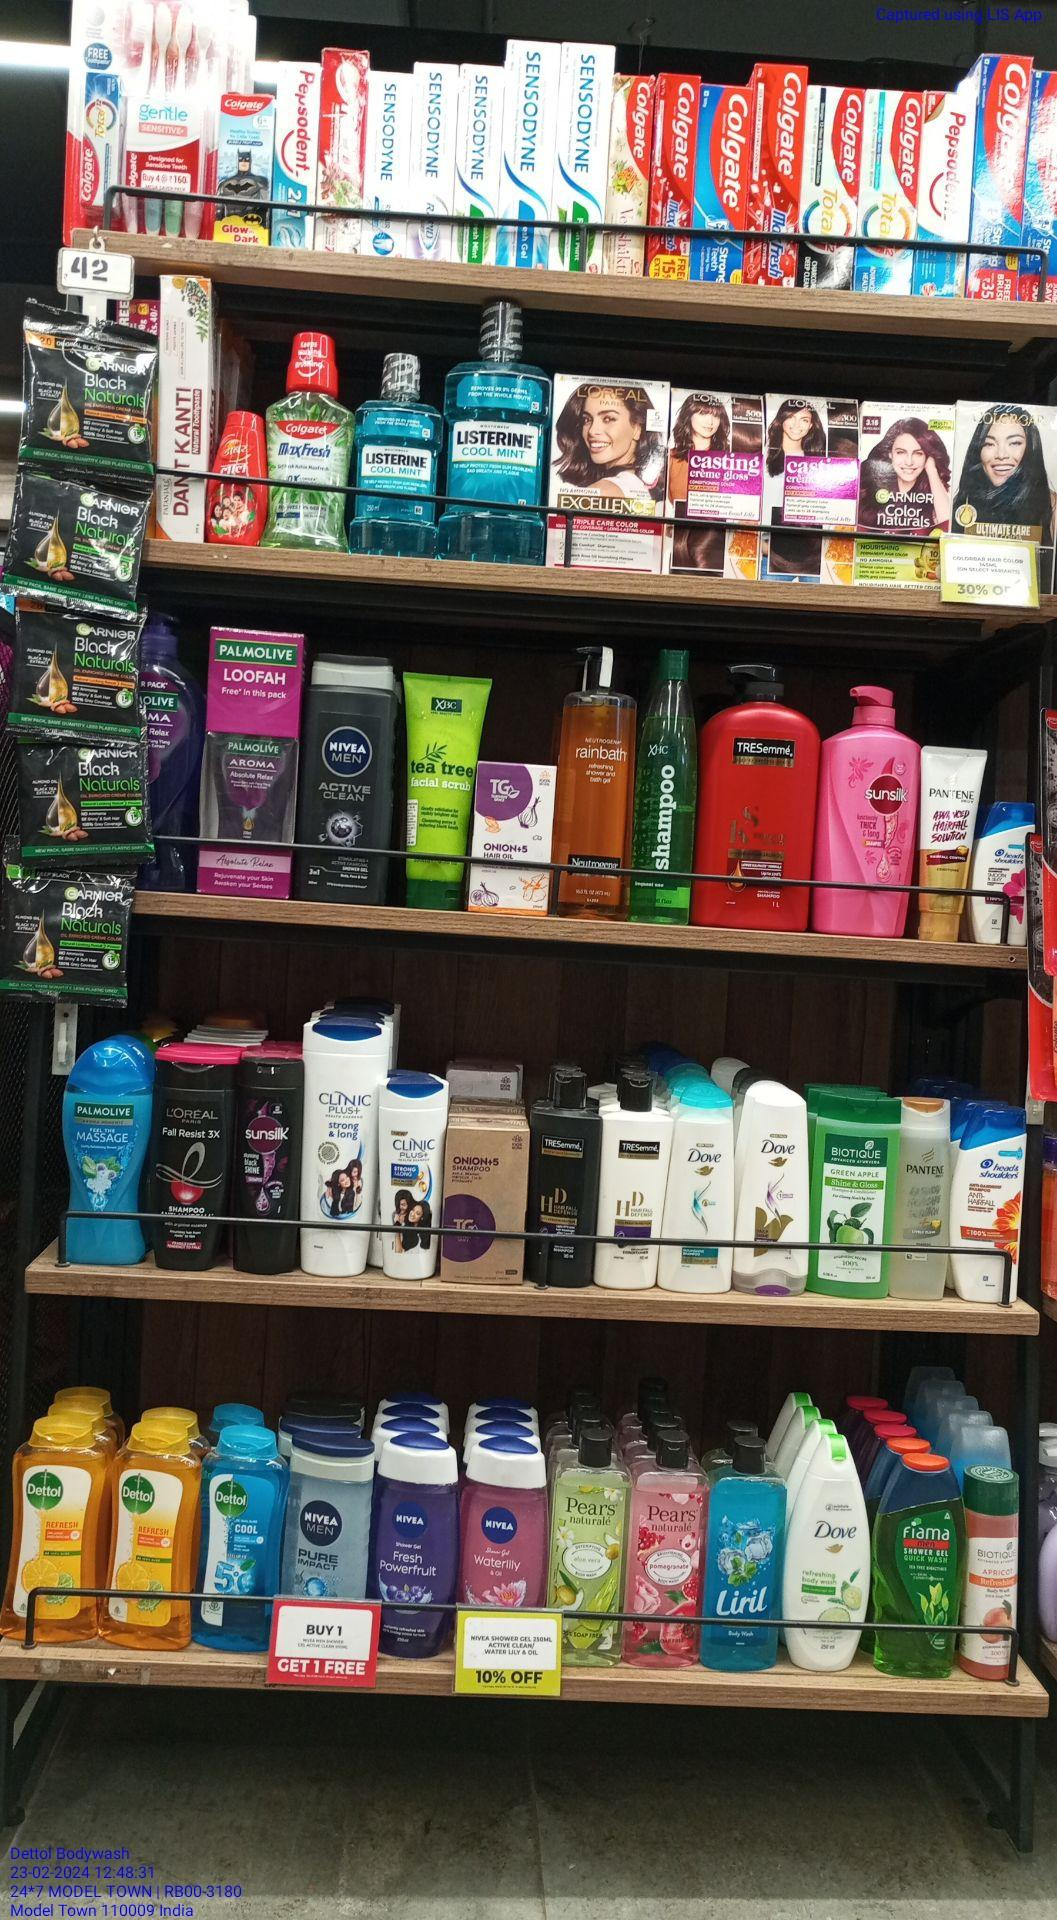Dettol_Bodywash_Cool: (200, 1429, 275, 1649)
Dettol_Bodywash_Refresh: (3, 1418, 98, 1643), (107, 1424, 191, 1649)
Dove_Refreshing_Body_Wash_250ML: (784, 1433, 862, 1673)
Nivea_Shower_Gel_Fresh_Powerfruit_250ML: (375, 1428, 452, 1654)
Nivea_Shower_Gel_Waterlily_and_Oil_250ML: (463, 1434, 544, 1609)
Palmolive_Aroma_Moments_Feel_The_Massage_Shower_Gel_250ML: (60, 1040, 150, 1267)
Pears_Naturale_Aloe_Vera_Body_Wash_250ML: (553, 1427, 624, 1667)
